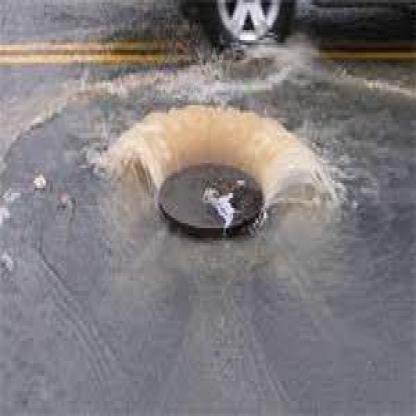drainage overflow-repair-: (104, 72, 300, 290)
